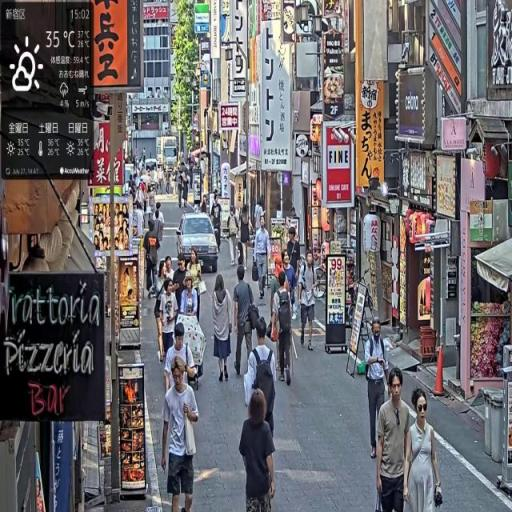person: (161, 358, 201, 512), (375, 367, 413, 512), (405, 390, 445, 512), (241, 389, 279, 512), (245, 316, 279, 445), (365, 316, 392, 461), (233, 263, 260, 384), (164, 322, 199, 399), (273, 271, 295, 388), (212, 274, 235, 383), (299, 248, 319, 353), (158, 279, 180, 365), (253, 216, 272, 301), (179, 273, 200, 321), (228, 208, 240, 268)
